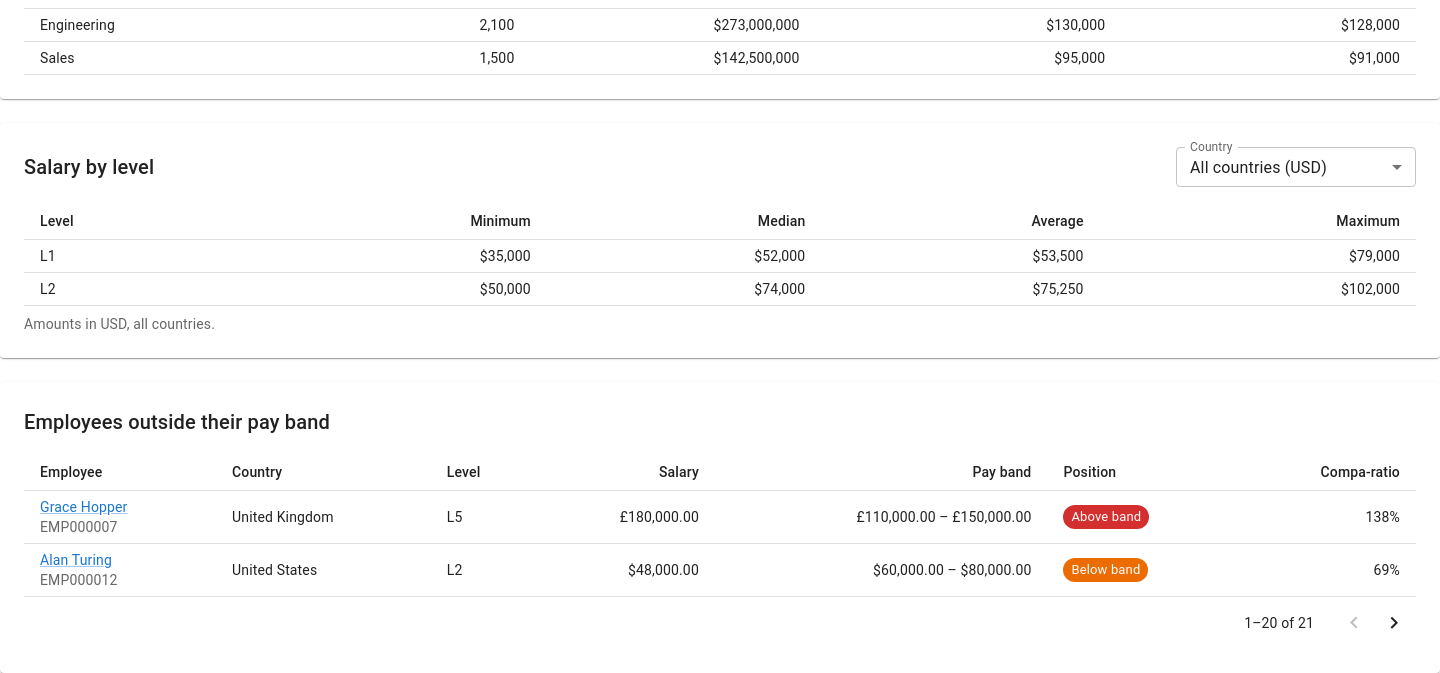
Scenario: InsightsPage › employees outside their pay band › pages through the list on the server
The image size is (1440, 673).
(page scrolled)
Expected: the link "Grace Hopper" is shown, [40, 499, 128, 515]
Expected: the text "1–20 of 21" is shown, [1244, 613, 1314, 633]
Click the button named "next page": point(1394, 623) [1374, 603, 1414, 643]
(page scrolled)
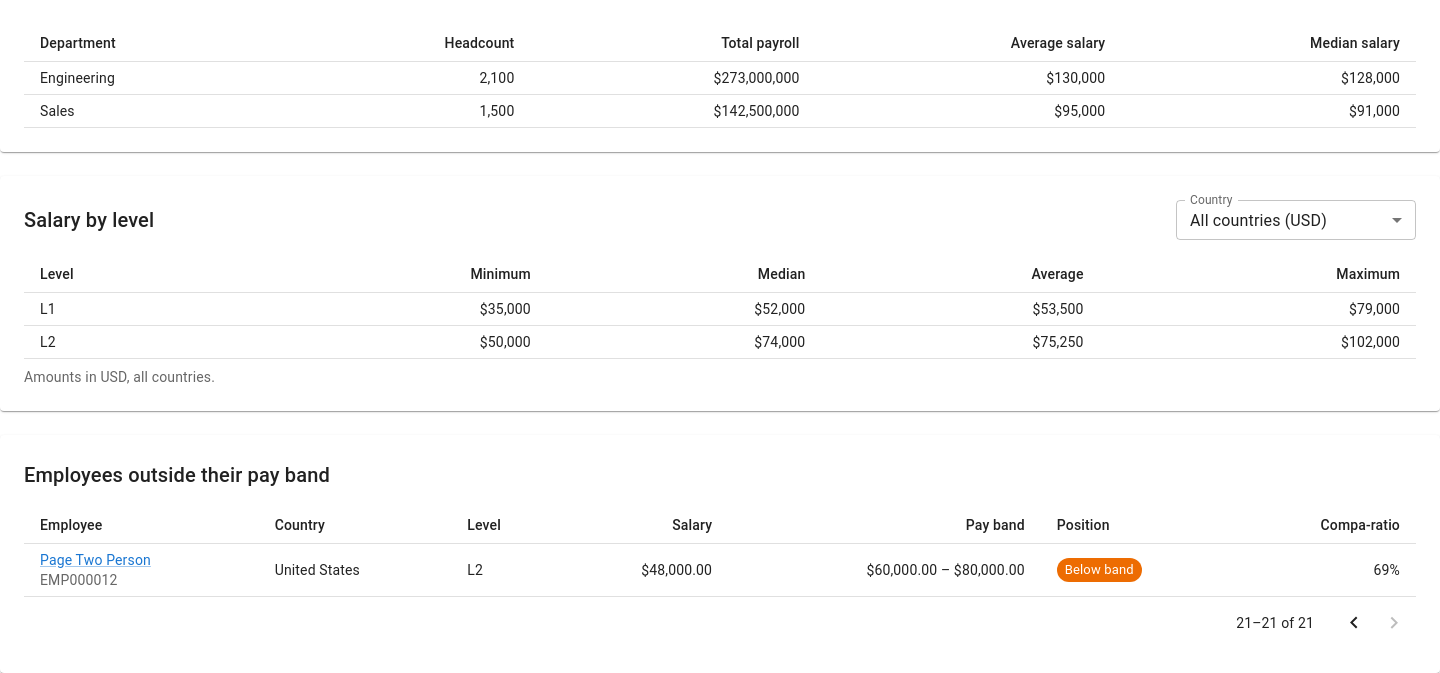
Expected: the link "Page Two Person" is shown, [40, 552, 151, 568]
Expected: the text "21–21 of 21" is shown, [1236, 613, 1314, 633]
